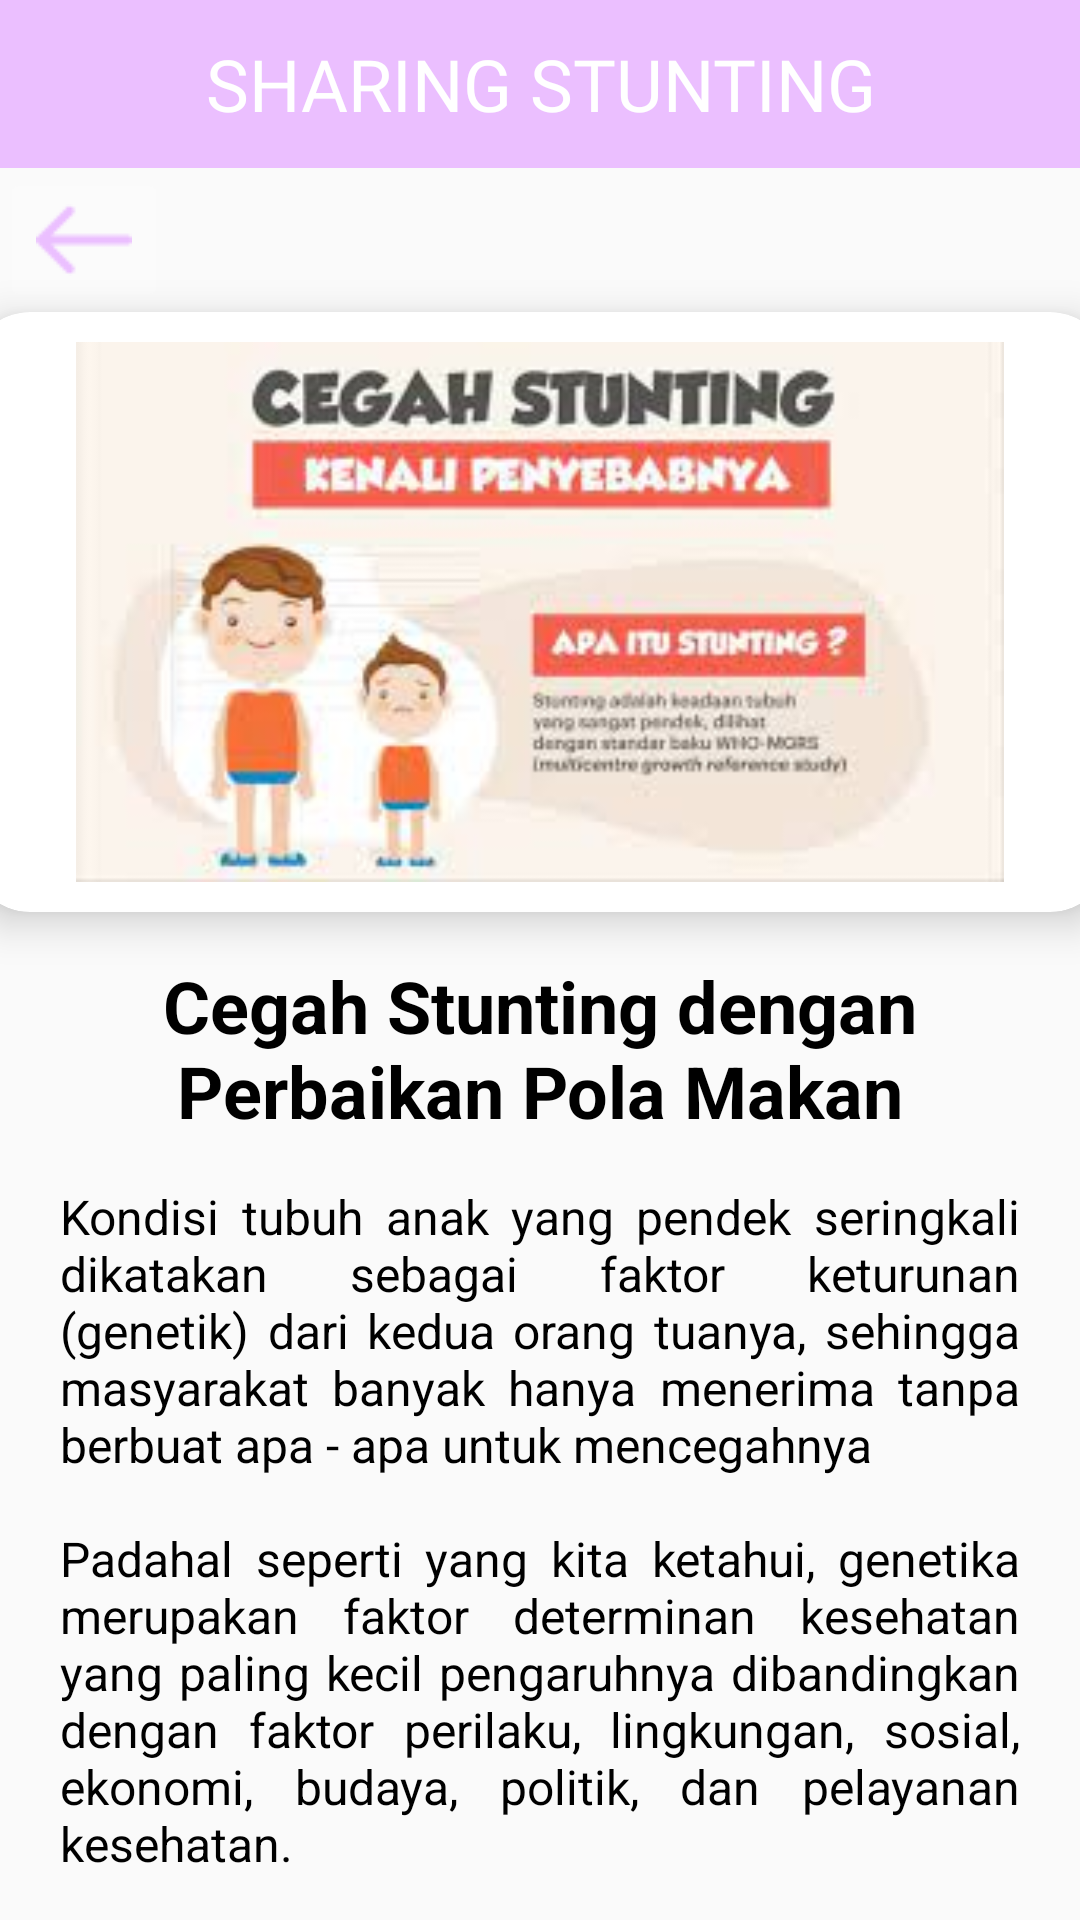

Named icons in this screenshot (1080×1920) and their centers, (x,y):
back: (84,240)
